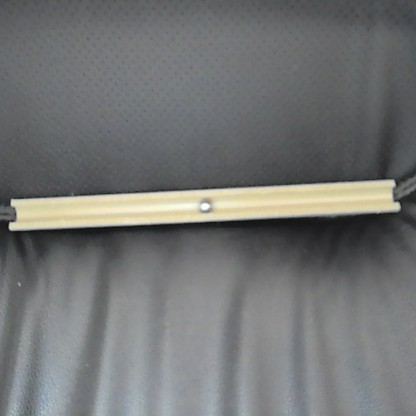ironball: (196, 195, 213, 214)
